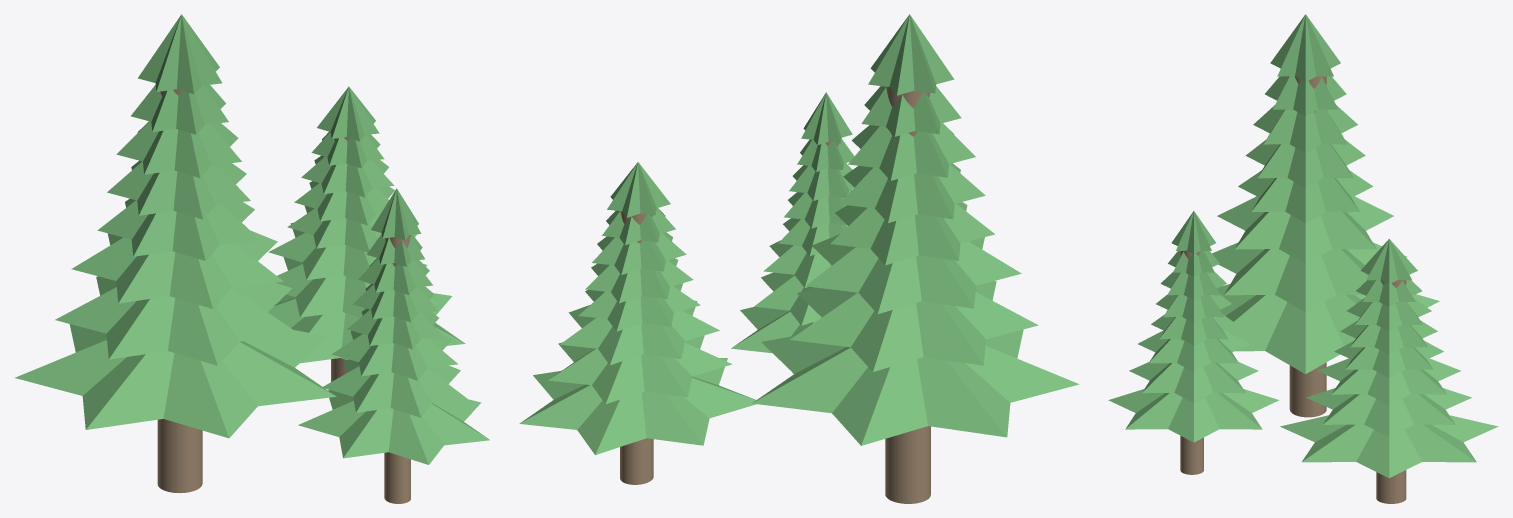
The model's file is TreeGroup1.glb.
3 views of the same model, side by side, from view 1: azimuth 30°, elevation 25°; view 2: azimuth 150°, elevation 25°; view 3: azimuth 270°, elevation 25° (orthographic). The views are drawn at different scales.
Parts seen in each view (by area): view 1: Mesh_Mesh_head_geo.001_lambert2SG.001; view 2: Mesh_Mesh_head_geo.001_lambert2SG.001; view 3: Mesh_Mesh_head_geo.001_lambert2SG.001.
Boxes of the visible parts, x1=… form: Mesh_Mesh_head_geo.001_lambert2SG.001: x1=15, y1=14, x2=489, y2=503; Mesh_Mesh_head_geo.001_lambert2SG.001: x1=519, y1=14, x2=1079, y2=503; Mesh_Mesh_head_geo.001_lambert2SG.001: x1=1108, y1=14, x2=1498, y2=503.
Bounding box in the file's own units: 0.202 × 0.201 × 0.18.
